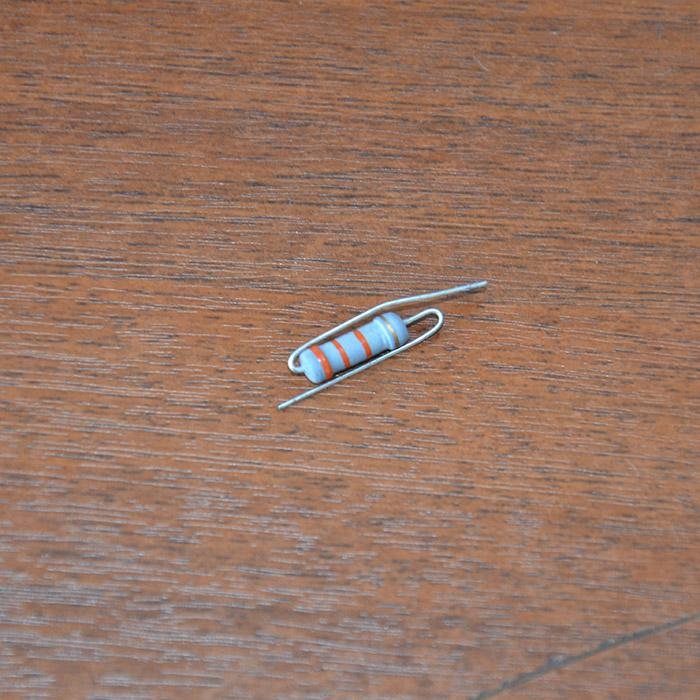resistor: (297, 311, 407, 384)
